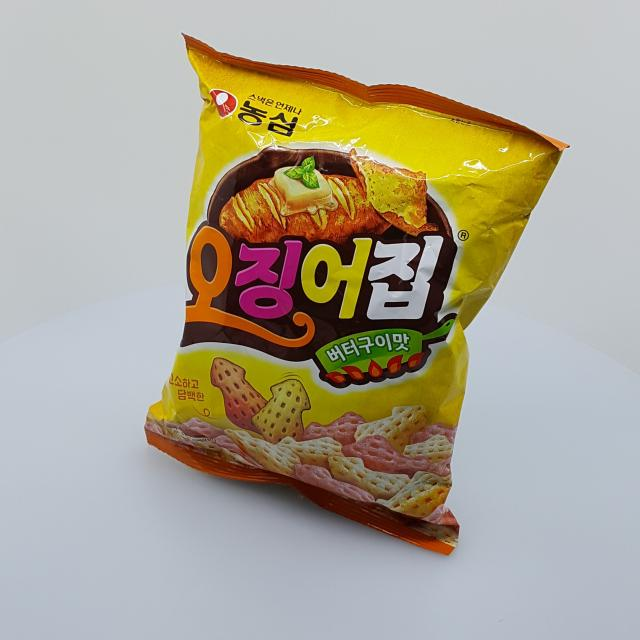-83G: (145, 33, 571, 557)
